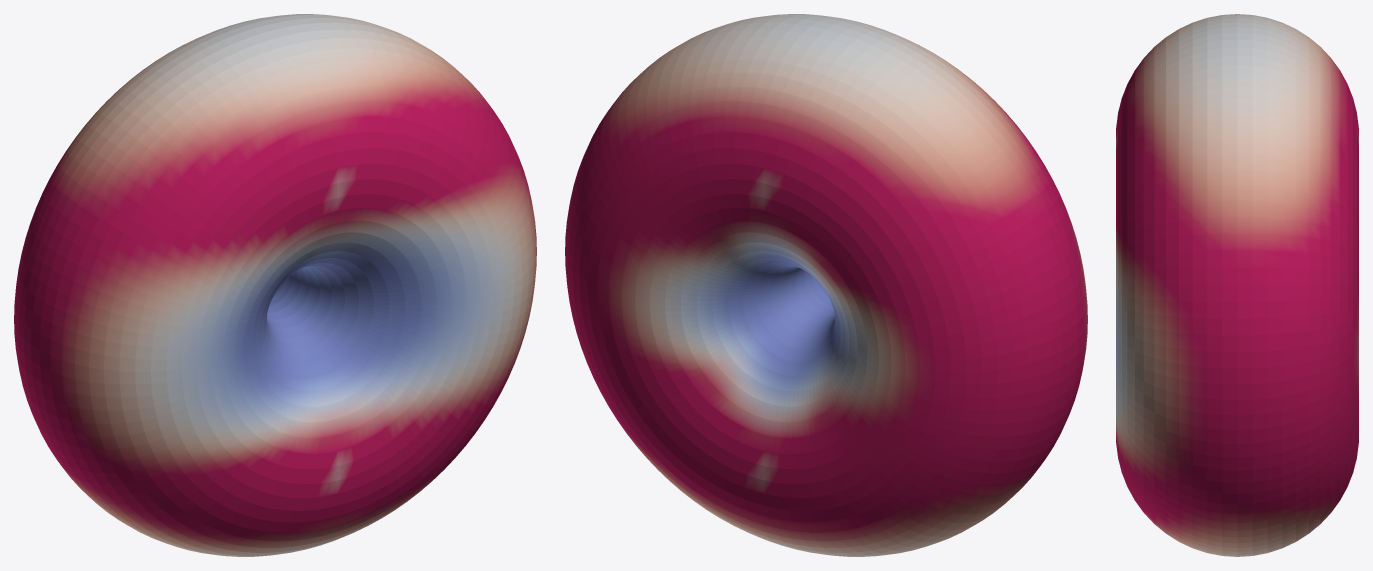
The picture shows the model from 3 angles, left to right: view 1: azimuth 30°, elevation 25°; view 2: azimuth 150°, elevation 25°; view 3: azimuth 270°, elevation 25°; orthographic projection. The views are drawn at different scales.
Visible parts, largest first — view 1: world; view 2: world; view 3: world.
Part boxes in pixels (x1,y1,x2,y2): world: [14, 14, 536, 556]; world: [565, 14, 1087, 556]; world: [1116, 14, 1358, 556].
Size of the model in its own units: 21.73 by 21.73 by 9.71.
